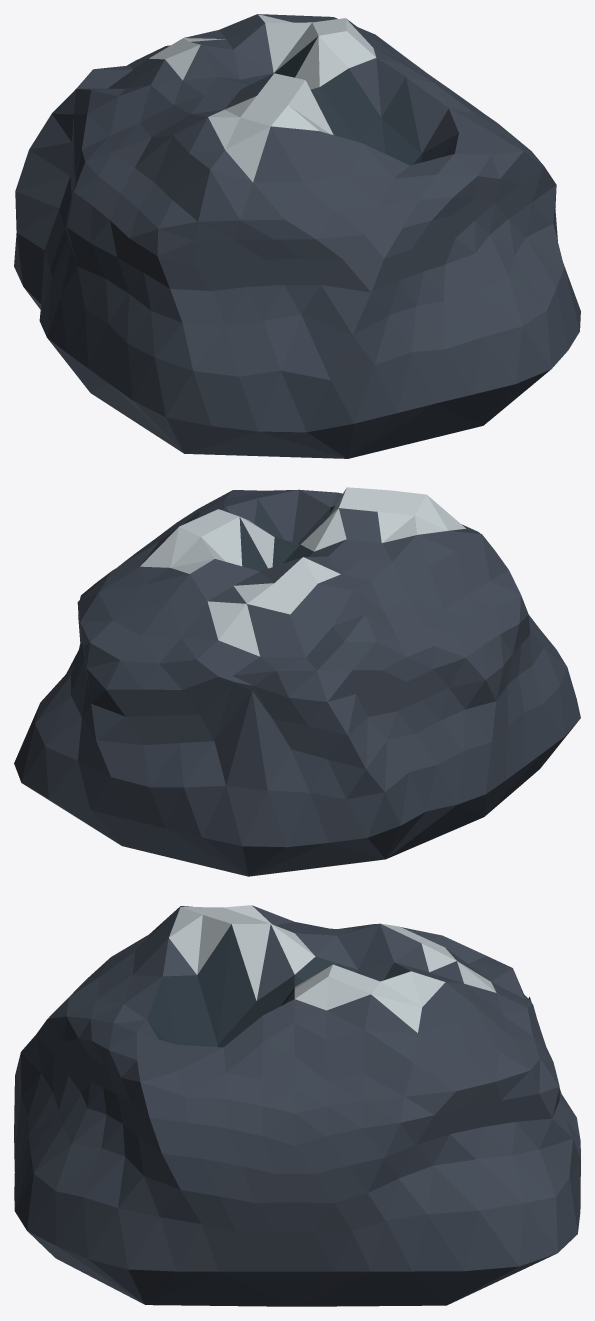
File: newshd-152.glb
The picture shows the model from 3 angles, top to bottom: view 1: azimuth 30°, elevation 25°; view 2: azimuth 150°, elevation 25°; view 3: azimuth 270°, elevation 25°; orthographic projection. The views are drawn at different scales.
Parts seen in each view (by area): view 1: newshd-152; view 2: newshd-152; view 3: newshd-152.
Part boxes in pixels (box(x1,y1,x2,y2)): newshd-152: box(14, 14, 580, 458); newshd-152: box(14, 487, 580, 876); newshd-152: box(14, 905, 580, 1306).
Size of the model in its own units: 1.03 by 0.7539 by 1.2.
